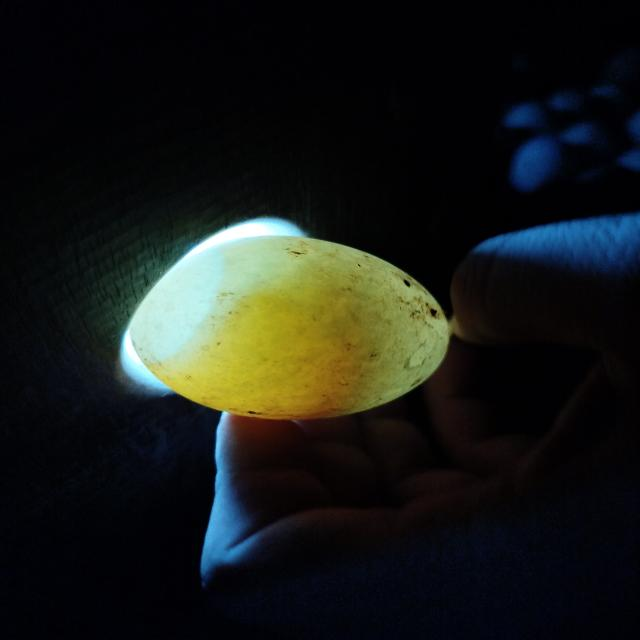Camara de Ar: (128, 247, 222, 363)
